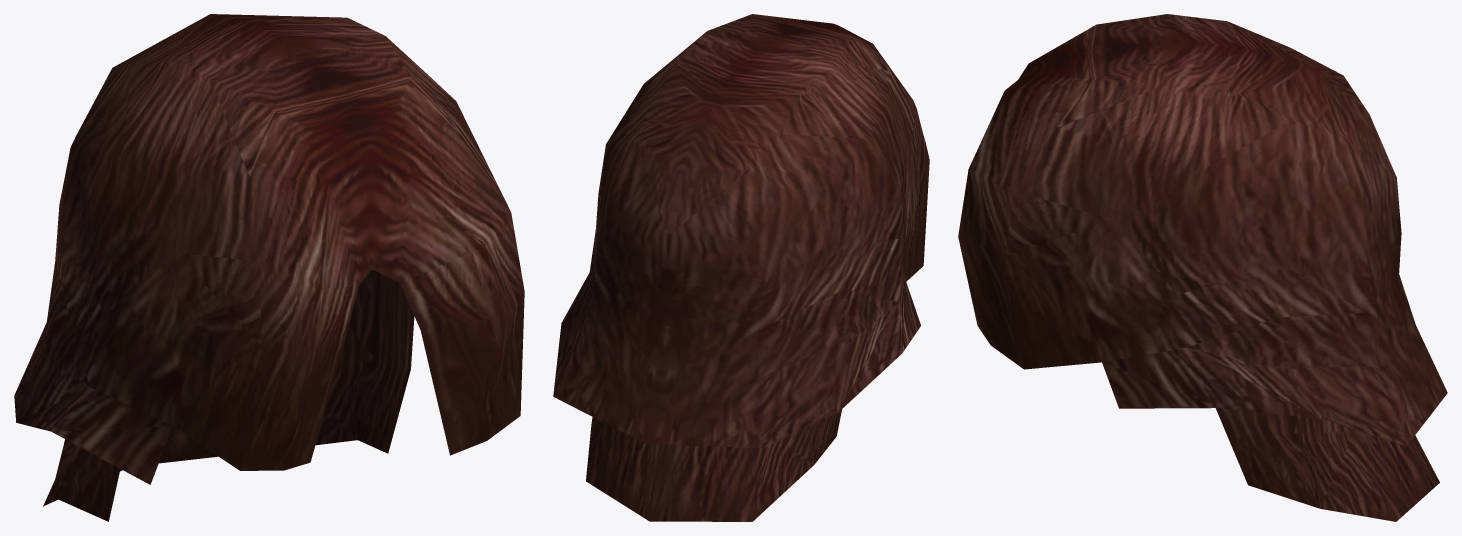
3 views of the same model, side by side, from view 1: azimuth 30°, elevation 25°; view 2: azimuth 150°, elevation 25°; view 3: azimuth 270°, elevation 25° (orthographic). The views are drawn at different scales.
Size of the model in its own units: 1.57 by 1.99 by 2.
Materials: 1 (1 with a texture image).
